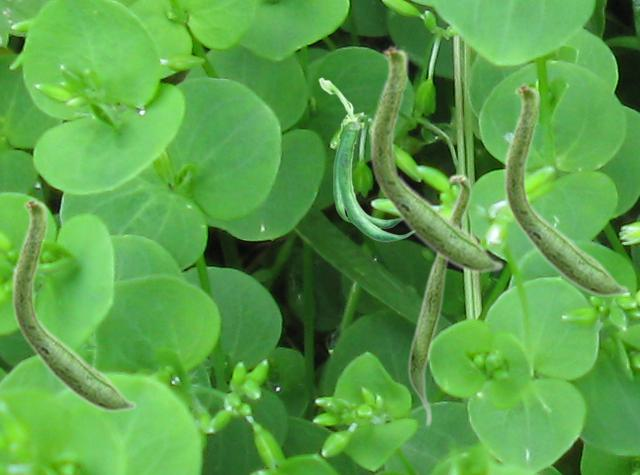french_bean: (369, 43, 503, 273), (503, 81, 628, 297), (11, 196, 136, 412), (407, 173, 471, 427), (318, 77, 411, 241)
